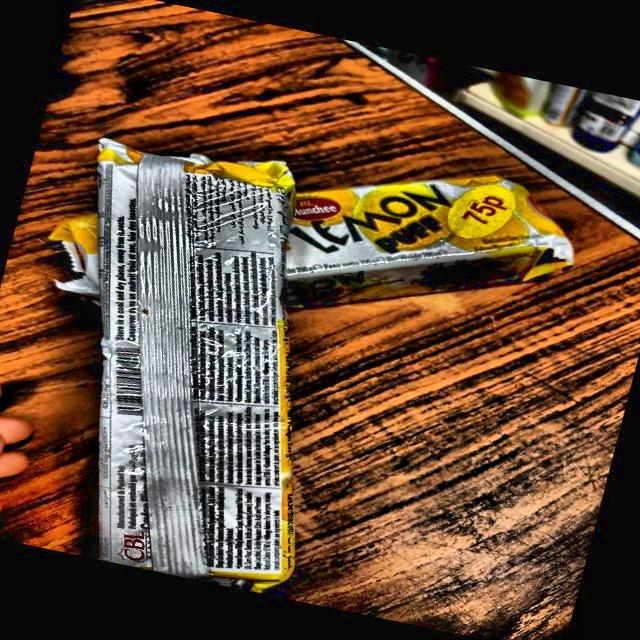lemon puff: (93, 135, 297, 589), (64, 179, 570, 298)
